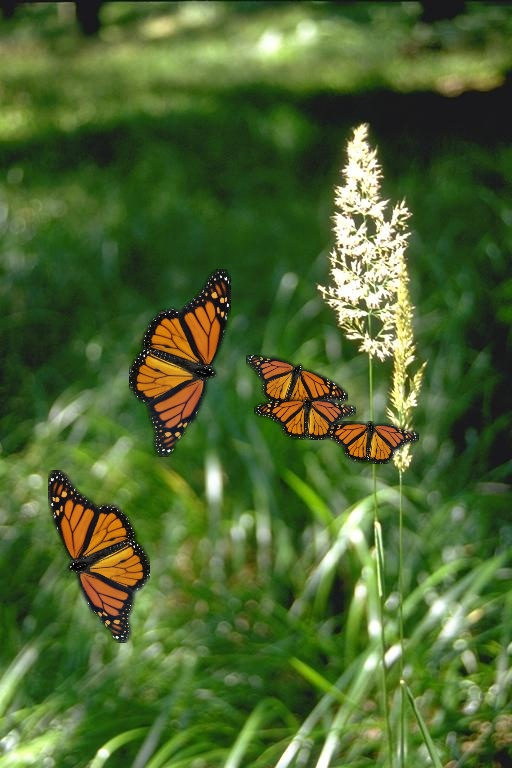danaus_plexippus: (129, 269, 231, 457), (48, 470, 150, 643), (246, 355, 348, 411), (317, 421, 419, 464), (254, 397, 356, 440)
